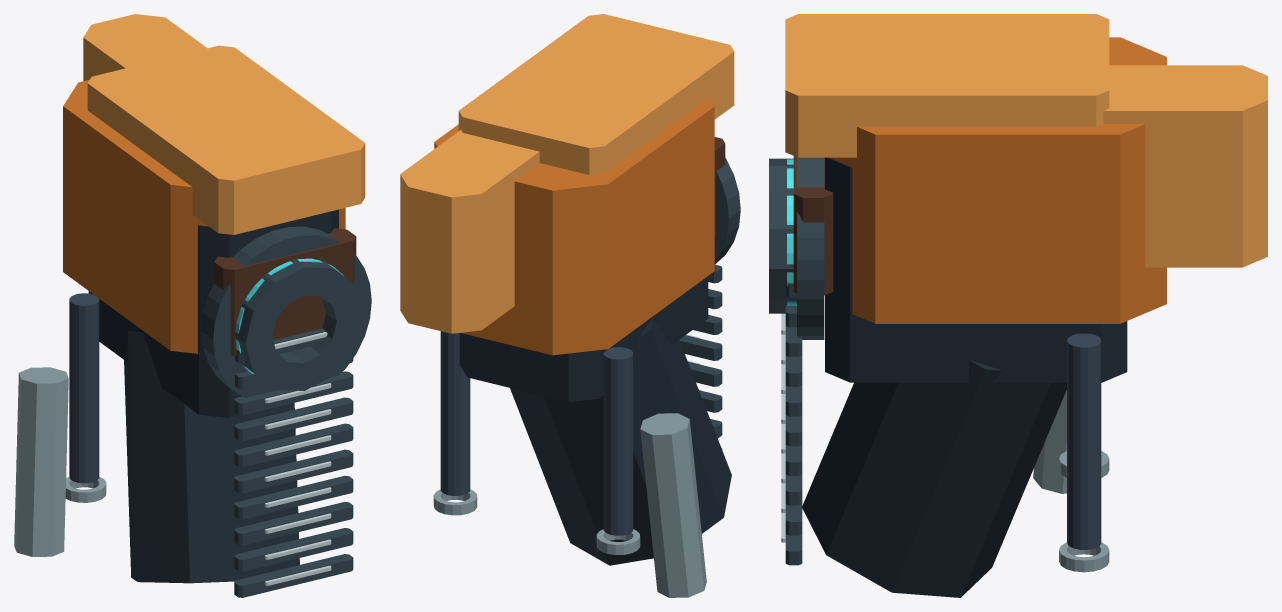
The model's file is enemy_runner_4k_upper_arm_l.obj.
3 renders of one model, left to right at view 1: azimuth 30°, elevation 25°; view 2: azimuth 150°, elevation 25°; view 3: azimuth 270°, elevation 25°, orthographic. The views are drawn at different scales.
Size of the model in its own units: 0.4759 by 0.8144 by 0.6925.
